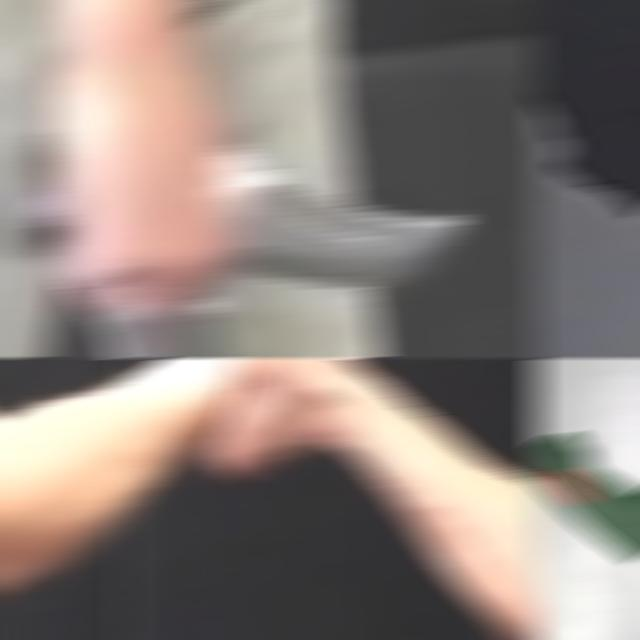Knife: (210, 152, 474, 288), (530, 431, 640, 559)
Knife_Handle: (0, 66, 474, 342)
